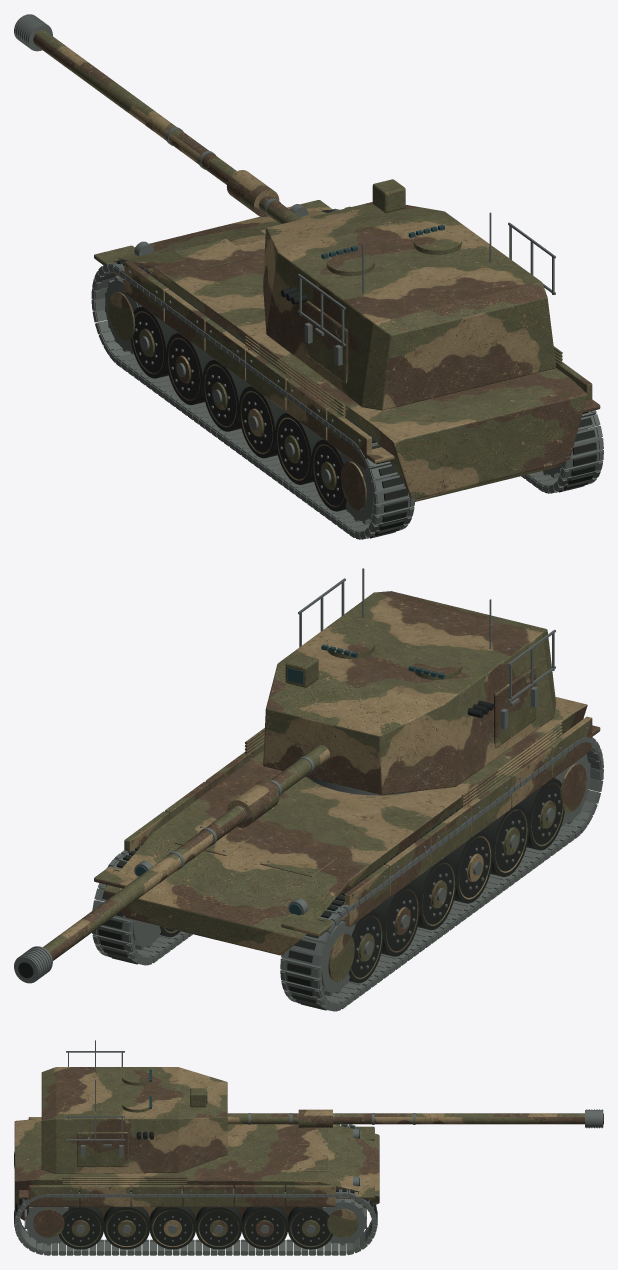
The model's file is k9-gpt-blender.glb.
3 views of the same model, one above another, from view 1: azimuth 30°, elevation 25°; view 2: azimuth 150°, elevation 25°; view 3: azimuth 270°, elevation 25° (orthographic). The views are drawn at different scales.
Visible parts, largest first — view 1: Other_Other_Turret.001_Camouflage paint.001, Other_Other_Hull.001_Camouflage paint.001, Other_Other_Track_L.001_Track steel and fasteners.001, Other_Other_Gun.001_Camouflage paint.001, Other_Other_Track_R.001_Track steel and fasteners.001, Other_Other_Turret.001_Track steel and fasteners.001, Other_Other_Track_L.001_Camouflage paint.001, Other_Other_RoadWheel_-1_3.001_Rubber tires and pads.001, Other_Other_RoadWheel_-1_4.001_Rubber tires and pads.001, Other_Other_RoadWheel_-1_5.001_Rubber tires and pads.001, Other_Other_RoadWheel_-1_2.001_Rubber tires and pads.001, Other_Other_RoadWheel_-1_6.001_Rubber tires and pads.001 (+5 smaller); view 2: Other_Other_Hull.001_Camouflage paint.001, Other_Other_Turret.001_Camouflage paint.001, Other_Other_Track_L.001_Track steel and fasteners.001, Other_Other_Gun.001_Camouflage paint.001, Other_Other_Track_R.001_Track steel and fasteners.001, Other_Other_Track_L.001_Camouflage paint.001, Other_Other_Turret.001_Track steel and fasteners.001, Other_Other_RoadWheel_-1_4.001_Rubber tires and pads.001, Other_Other_RoadWheel_-1_3.001_Rubber tires and pads.001, Other_Other_RoadWheel_-1_5.001_Rubber tires and pads.001, Other_Other_RoadWheel_-1_2.001_Rubber tires and pads.001, Other_Other_RoadWheel_-1_1.001_Rubber tires and pads.001 (+8 smaller); view 3: Other_Other_Hull.001_Camouflage paint.001, Other_Other_Turret.001_Camouflage paint.001, Other_Other_Track_R.001_Track steel and fasteners.001, Other_Other_Gun.001_Camouflage paint.001, Other_Other_Track_R.001_Camouflage paint.001, Other_Other_RoadWheel_1_2.001_Rubber tires and pads.001, Other_Other_RoadWheel_1_3.001_Rubber tires and pads.001, Other_Other_RoadWheel_1_5.001_Rubber tires and pads.001, Other_Other_RoadWheel_1_4.001_Rubber tires and pads.001, Other_Other_RoadWheel_1_1.001_Rubber tires and pads.001, Other_Other_RoadWheel_1_6.001_Rubber tires and pads.001, Other_Other_Turret.001_Track steel and fasteners.001 (+9 smaller).
Part boxes in pixels (left/top/right/bottom): Other_Other_Turret.001_Camouflage paint.001: left=263, top=179, right=556, bottom=410; Other_Other_Hull.001_Camouflage paint.001: left=94, top=200, right=600, bottom=501; Other_Other_Track_L.001_Track steel and fasteners.001: left=91, top=263, right=414, bottom=539; Other_Other_Gun.001_Camouflage paint.001: left=33, top=30, right=301, bottom=224; Other_Other_Track_R.001_Track steel and fasteners.001: left=329, top=208, right=603, bottom=493; Other_Other_Turret.001_Track steel and fasteners.001: left=298, top=212, right=555, bottom=365; Other_Other_Track_L.001_Camouflage paint.001: left=108, top=292, right=366, bottom=510; Other_Other_RoadWheel_-1_3.001_Rubber tires and pads.001: left=238, top=386, right=286, bottom=458; Other_Other_RoadWheel_-1_4.001_Rubber tires and pads.001: left=202, top=359, right=250, bottom=431; Other_Other_RoadWheel_-1_5.001_Rubber tires and pads.001: left=166, top=333, right=214, bottom=405; Other_Other_RoadWheel_-1_2.001_Rubber tires and pads.001: left=275, top=413, right=323, bottom=484; Other_Other_RoadWheel_-1_6.001_Rubber tires and pads.001: left=130, top=306, right=177, bottom=378; Other_Other_Hull.001_Camouflage paint.001: left=94, top=697, right=600, bottom=955; Other_Other_Turret.001_Camouflage paint.001: left=263, top=591, right=556, bottom=795; Other_Other_Track_L.001_Track steel and fasteners.001: left=280, top=737, right=603, bottom=1011; Other_Other_Gun.001_Camouflage paint.001: left=43, top=745, right=329, bottom=960; Other_Other_Track_R.001_Track steel and fasteners.001: left=92, top=845, right=192, bottom=965; Other_Other_Track_L.001_Camouflage paint.001: left=328, top=763, right=586, bottom=981; Other_Other_Turret.001_Track steel and fasteners.001: left=298, top=568, right=555, bottom=729; Other_Other_RoadWheel_-1_4.001_Rubber tires and pads.001: left=408, top=858, right=456, bottom=930; Other_Other_RoadWheel_-1_3.001_Rubber tires and pads.001: left=445, top=831, right=492, bottom=903; Other_Other_RoadWheel_-1_5.001_Rubber tires and pads.001: left=372, top=884, right=420, bottom=956; Other_Other_RoadWheel_-1_2.001_Rubber tires and pads.001: left=481, top=805, right=529, bottom=876; Other_Other_RoadWheel_-1_1.001_Rubber tires and pads.001: left=517, top=778, right=564, bottom=850; Other_Other_Hull.001_Camouflage paint.001: left=14, top=1117, right=379, bottom=1220; Other_Other_Turret.001_Camouflage paint.001: left=41, top=1067, right=227, bottom=1173; Other_Other_Track_R.001_Track steel and fasteners.001: left=14, top=1188, right=377, bottom=1255; Other_Other_Gun.001_Camouflage paint.001: left=227, top=1109, right=584, bottom=1128; Other_Other_Track_R.001_Camouflage paint.001: left=33, top=1209, right=358, bottom=1237; Other_Other_RoadWheel_1_2.001_Rubber tires and pads.001: left=103, top=1202, right=149, bottom=1249; Other_Other_RoadWheel_1_3.001_Rubber tires and pads.001: left=149, top=1203, right=195, bottom=1249; Other_Other_RoadWheel_1_5.001_Rubber tires and pads.001: left=241, top=1207, right=287, bottom=1249; Other_Other_RoadWheel_1_4.001_Rubber tires and pads.001: left=195, top=1206, right=241, bottom=1249; Other_Other_RoadWheel_1_1.001_Rubber tires and pads.001: left=59, top=1202, right=103, bottom=1249; Other_Other_RoadWheel_1_6.001_Rubber tires and pads.001: left=287, top=1207, right=332, bottom=1249; Other_Other_Turret.001_Track steel and fasteners.001: left=66, top=1040, right=124, bottom=1157.
Bounding box in the file's own units: 3.43 × 3.62 × 12.04.
5 materials, 1 textured.
